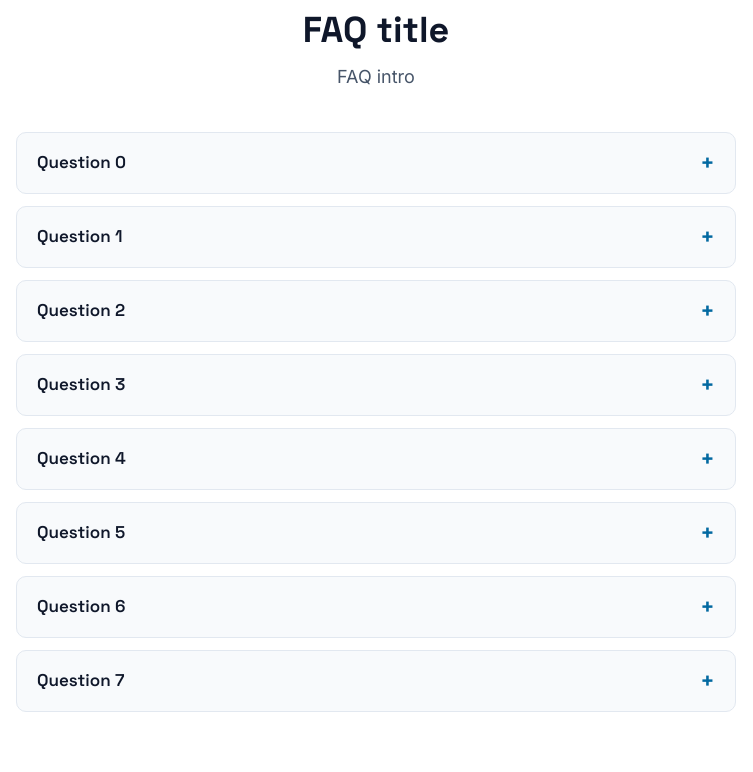
Test: FaqComponent › should collapse an open item when toggled again
Click the button with test id "faq-question-0".
click(81, 162)  # box [17,133,735,193]
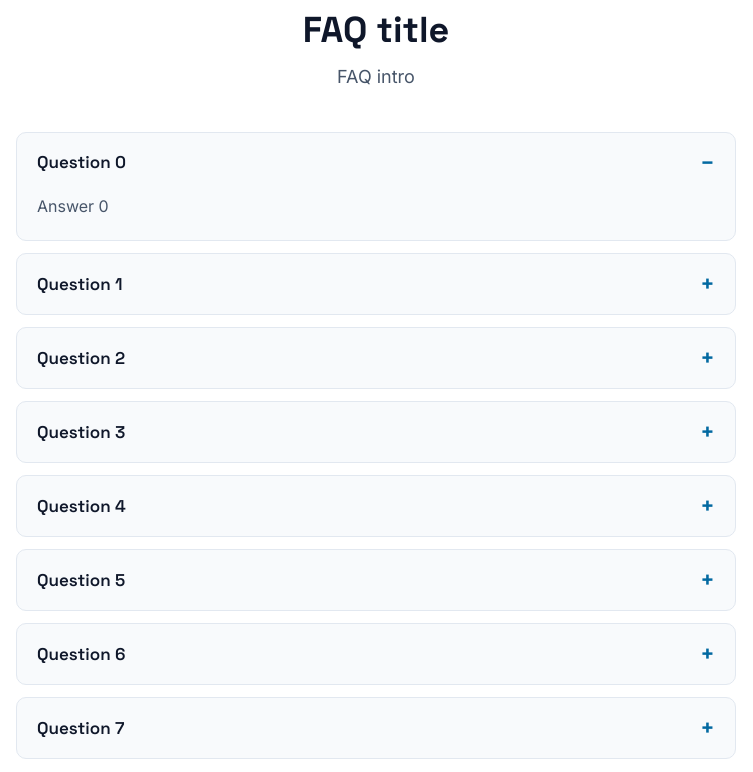
Click the button with test id "faq-question-0".
click(81, 162)  # box [17,133,735,193]
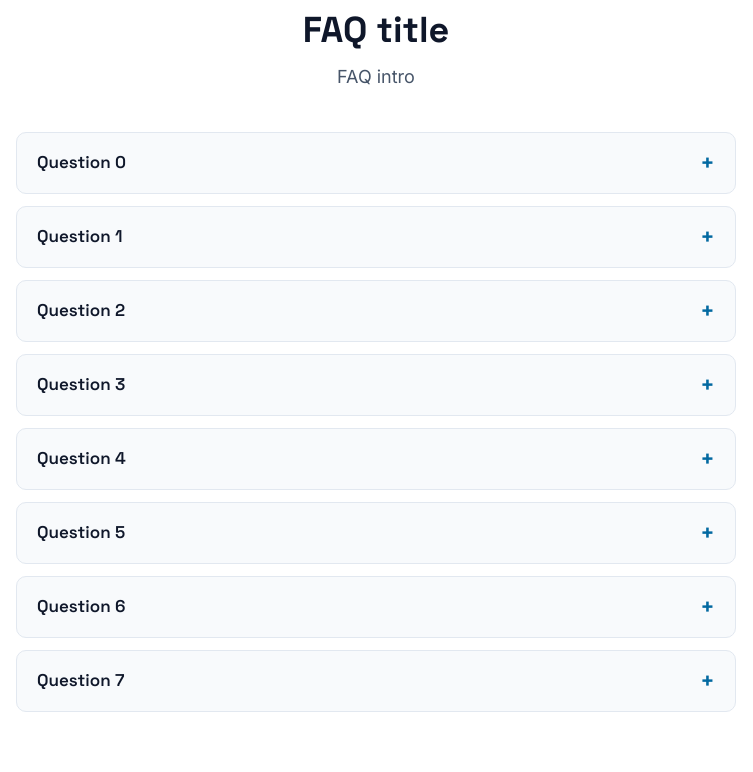
Result: the element with test id "faq-answer-0" is gone
